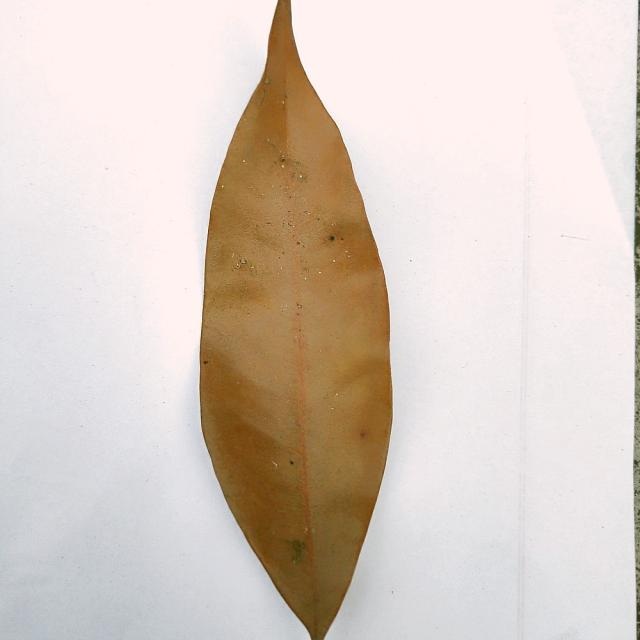Dry_Leaf-Lychee: (198, 0, 394, 639)
